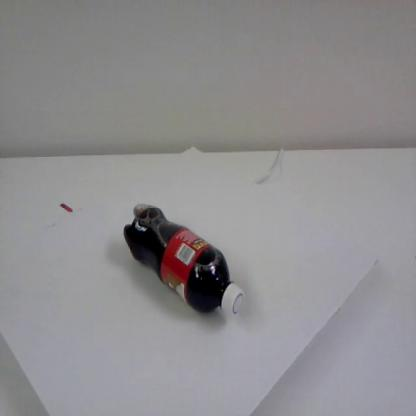bottle: (122, 201, 245, 323)
